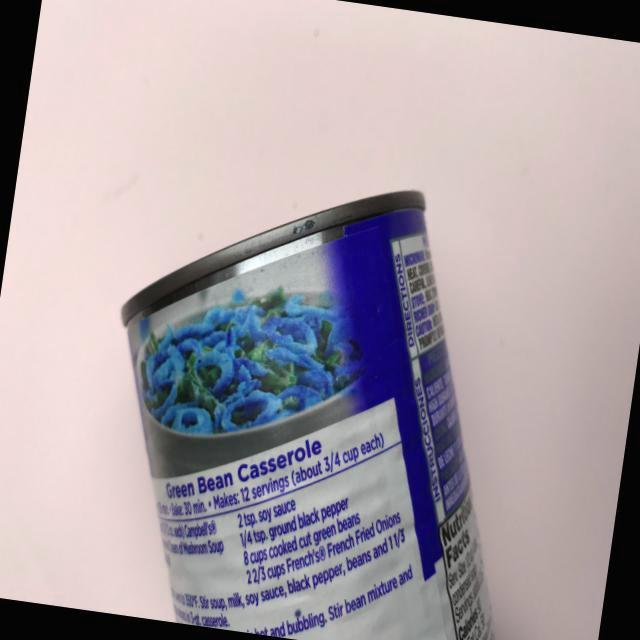metal: (73, 135, 573, 640)
